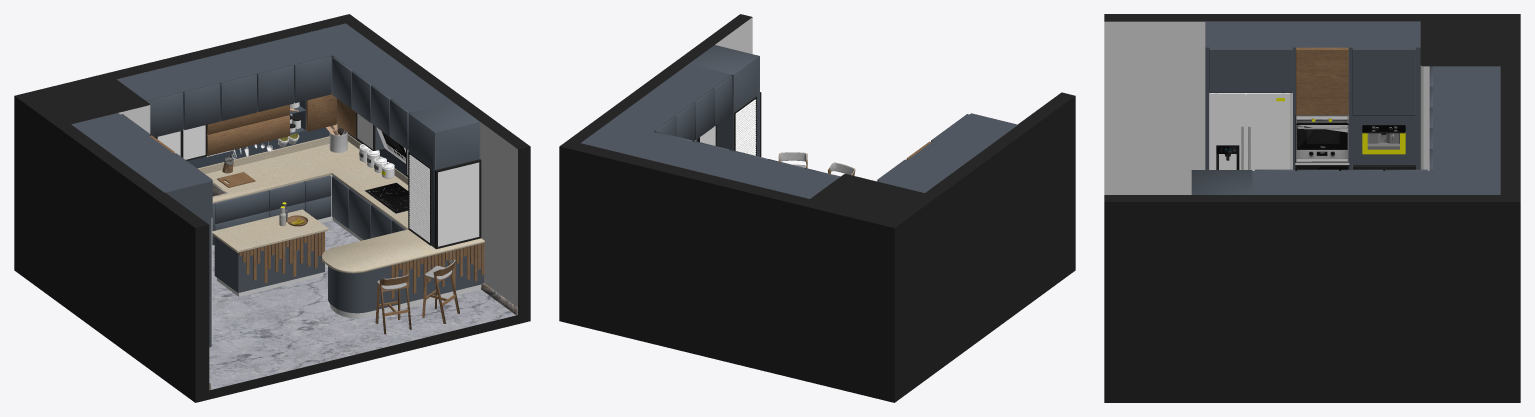
File: kitchen.glb
3 views of the same model, side by side, from view 1: azimuth 30°, elevation 25°; view 2: azimuth 150°, elevation 25°; view 3: azimuth 270°, elevation 25° (orthographic). The views are drawn at different scales.
Parts seen in each view (by area): view 1: Cabinets, CLC855_URBAN, Walls, Component, TRB_84300, DDDD.001, Sink; view 2: CLC855_URBAN, Cabinets, Stool; view 3: CLC855_URBAN, Cabinets, RLF_74925, HLB_840.
Boxes of the visible parts, bbox=[...] form: Cabinets: bbox=[71, 23, 517, 347]; CLC855_URBAN: bbox=[14, 14, 530, 402]; Walls: bbox=[187, 120, 515, 389]; Component: bbox=[157, 102, 479, 246]; TRB_84300: bbox=[364, 182, 408, 213]; DDDD.001: bbox=[290, 108, 347, 152]; Sink: bbox=[209, 182, 517, 390]; CLC855_URBAN: bbox=[559, 14, 1075, 402]; Cabinets: bbox=[581, 17, 1017, 198]; Stool: bbox=[779, 152, 854, 176]; CLC855_URBAN: bbox=[1104, 14, 1520, 402]; Cabinets: bbox=[1104, 21, 1500, 194]; RLF_74925: bbox=[1210, 93, 1289, 170]; HLB_840: bbox=[1295, 115, 1348, 170].
Bounding box in the file's own units: 10.83 × 5.4 × 10.13.
84 materials, 41 textured.
